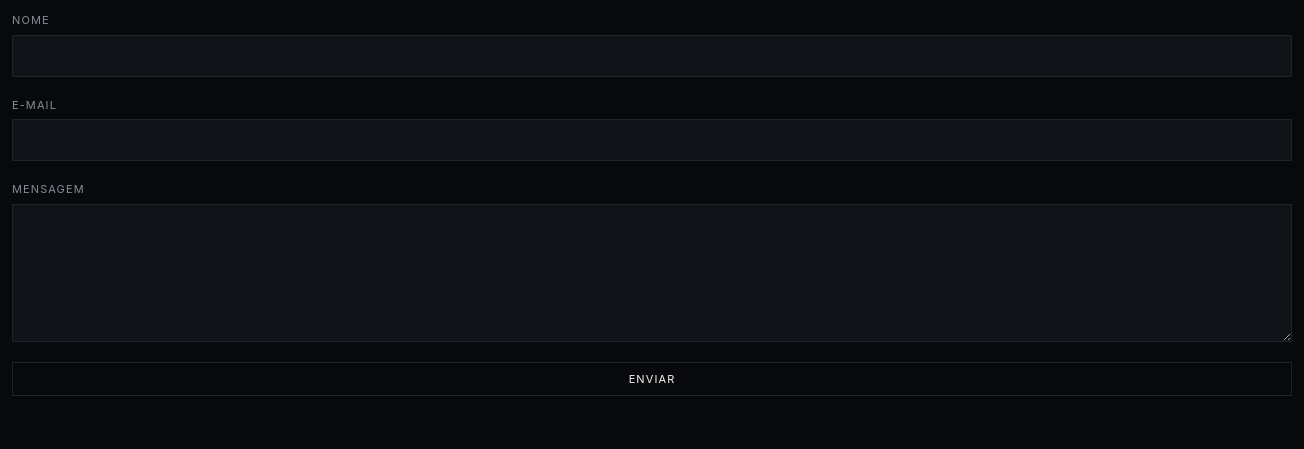
Test case: ContactForm › erro de rede leva ao estado error com mensagem legível, nunca a uma promessa pendente para sempre
Type "Visitante" into the field labelled "Nome" at (652, 56), box [12, 34, 1292, 76]
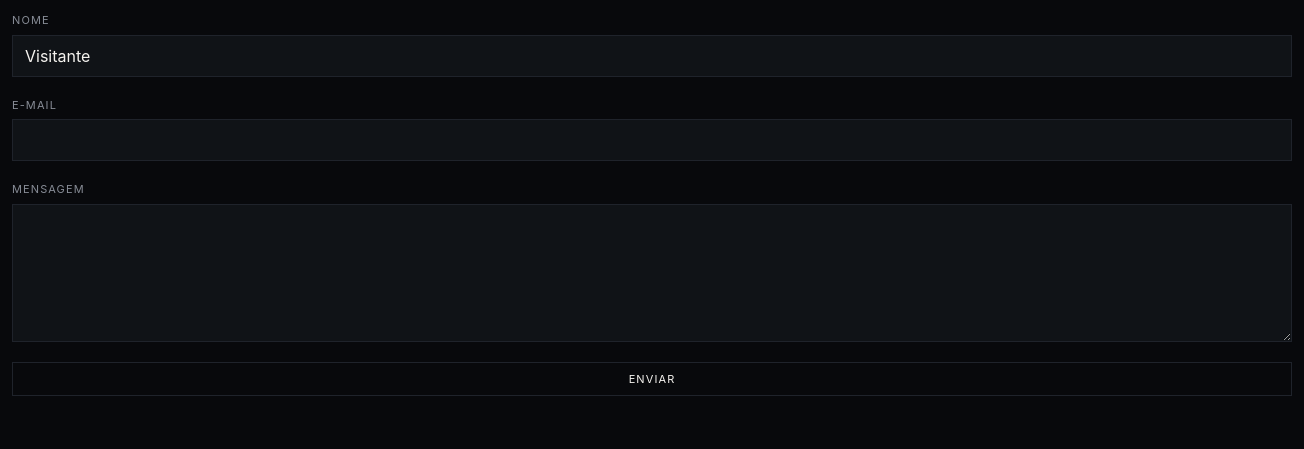
Type "visitante@example.com" into the field labelled "E-mail" at (652, 140), box [12, 119, 1292, 161]
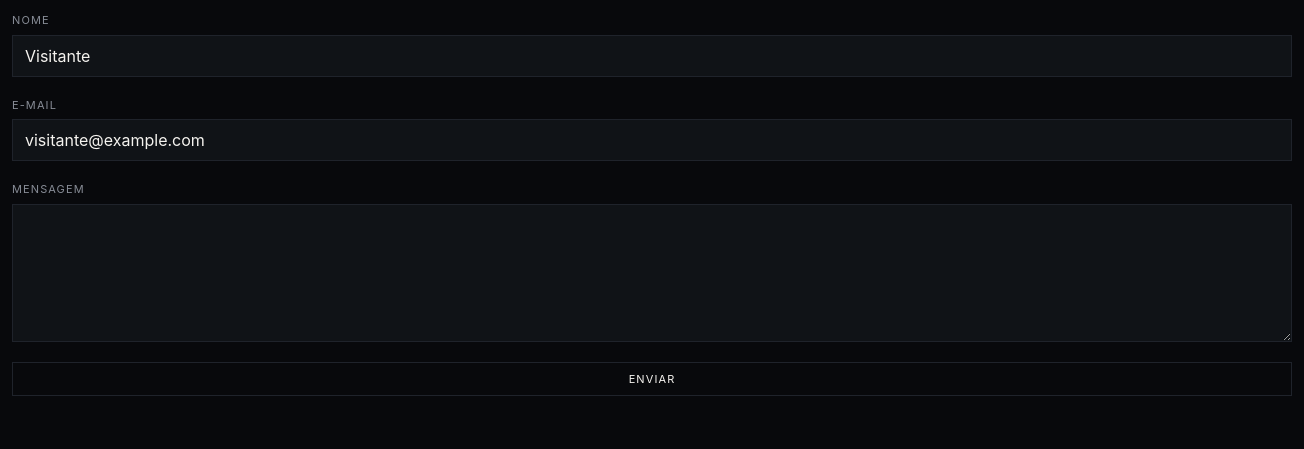
Type "Olá, quero conversar." into the text box labelled "Mensagem" at (652, 272), box [12, 204, 1292, 342]
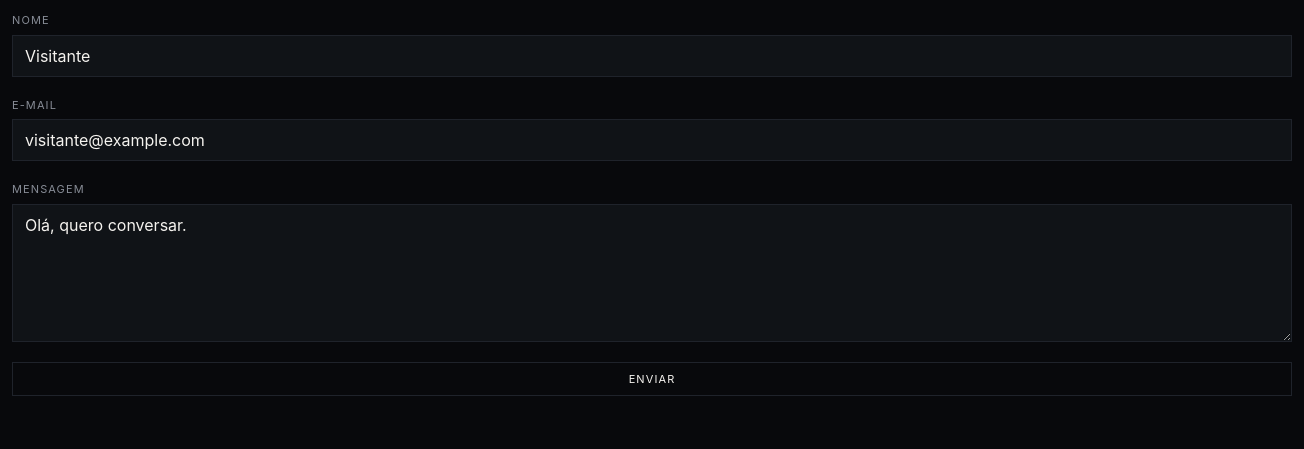
Click the button "Enviar" at (652, 379), box [12, 362, 1292, 396]
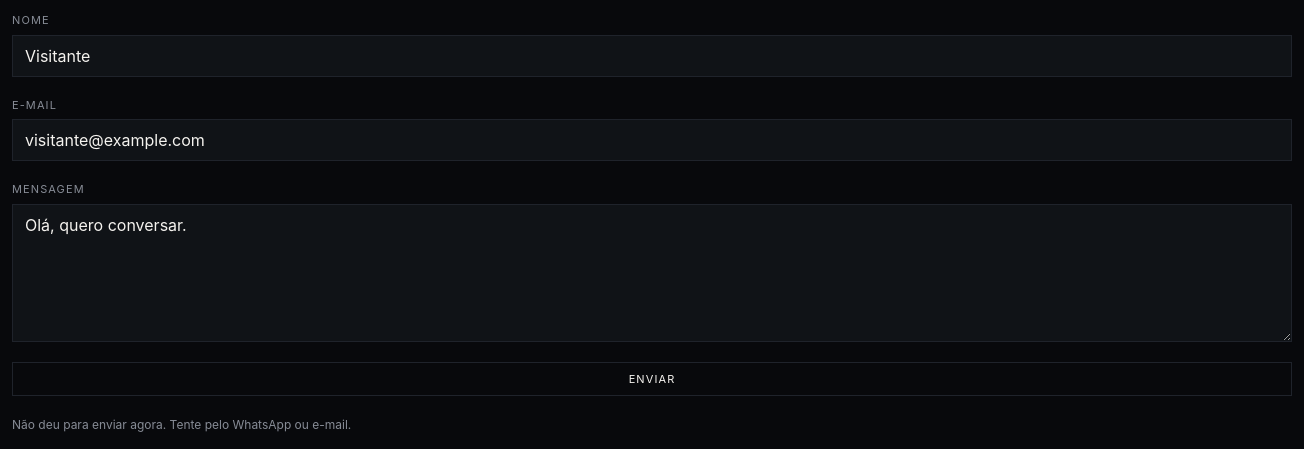
Expected: the text "Não deu para enviar agora. Tente pelo WhatsApp ou e-mail." is shown, [12, 417, 351, 432]
